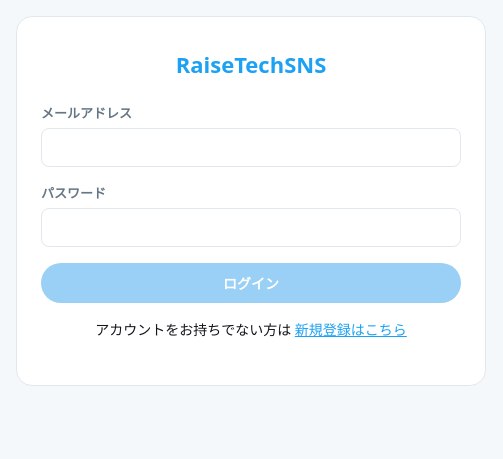
Test: App › ログインに失敗するとエラーメッセージが表示される
The width and height of the screenshot is (503, 459).
Expected: the heading "RaiseTechSNS" is shown, 176,49 -> 326,79
Type "taro@example.com" into the field labelled "メールアドレス" at coordinates (251, 148), box 41,128 -> 461,167
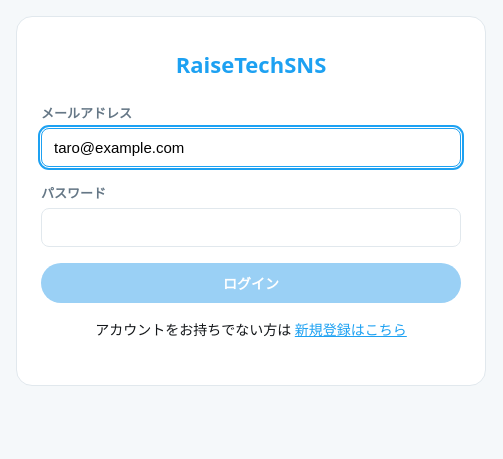
Type "wrong-password" into the password field labelled "パスワード" at coordinates (251, 228), box 41,208 -> 461,247
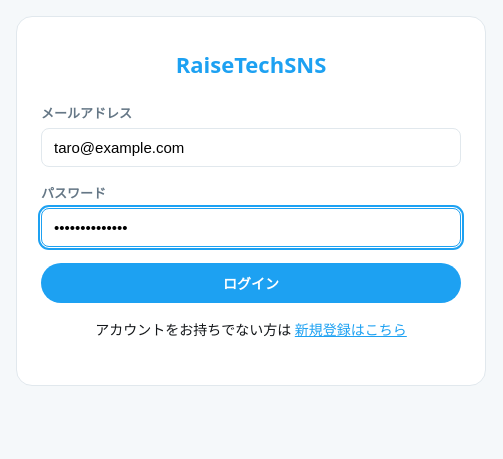
Click the button "ログイン" at coordinates (251, 283), box 41,263 -> 461,303
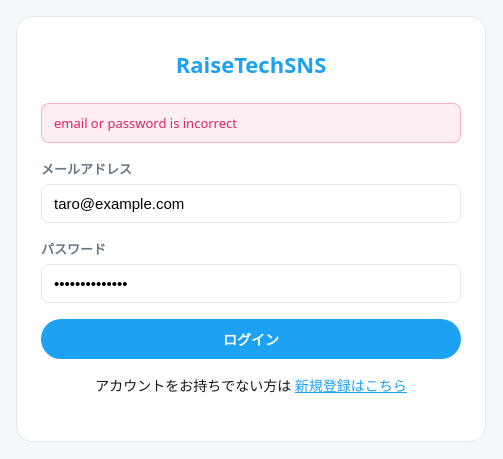
Expected: the text "email or password is incorrect" is shown, 41,103 -> 461,143
